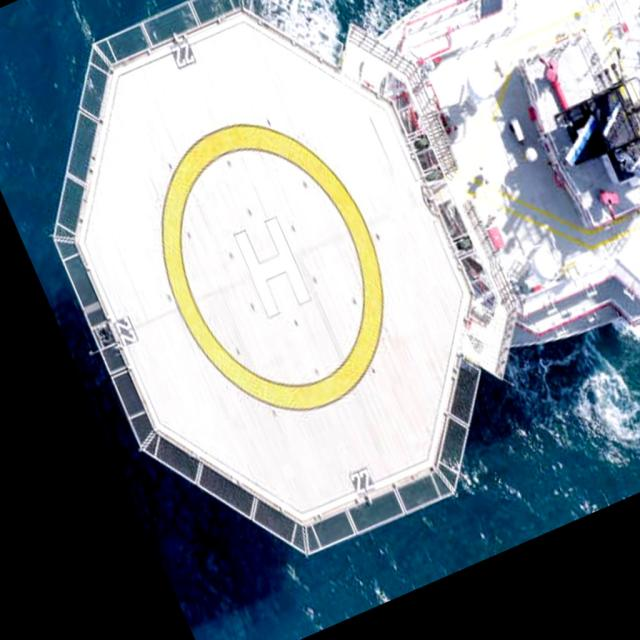helipad: (158, 117, 388, 415)
